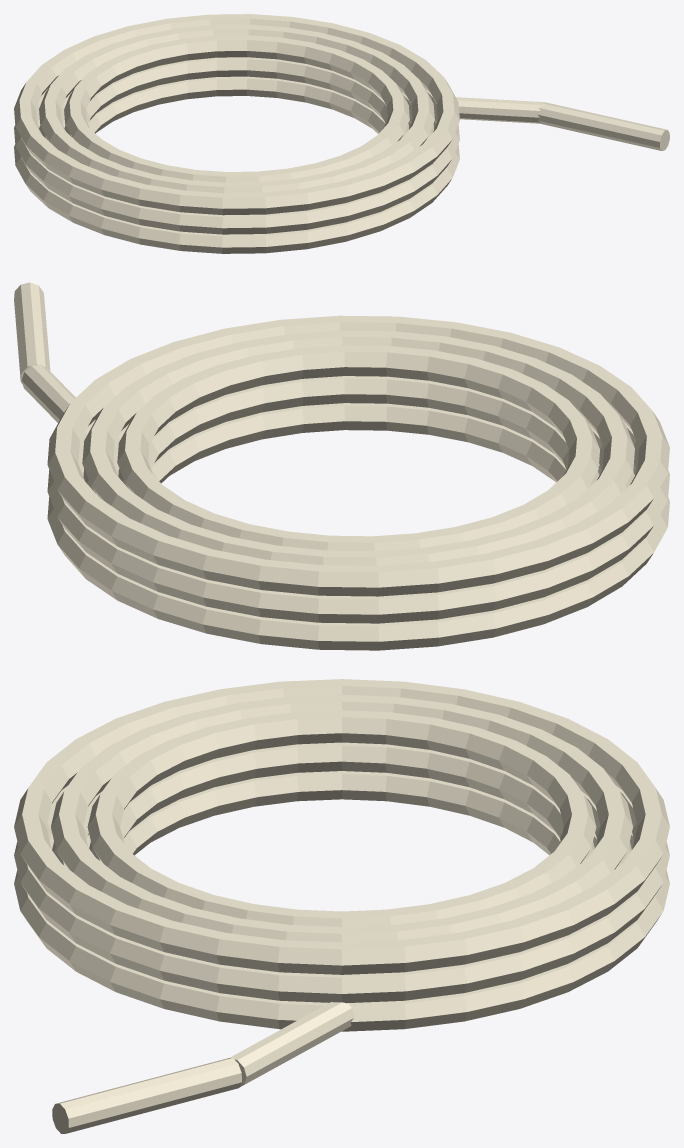
The model's file is harbor-and-tackle-mooring-rope-df9da9d7__19564.glb.
The picture shows the model from 3 angles, top to bottom: view 1: azimuth 30°, elevation 25°; view 2: azimuth 150°, elevation 25°; view 3: azimuth 270°, elevation 25°; orthographic projection. The views are drawn at different scales.
Parts seen in each view (by area): view 1: ivory; view 2: ivory; view 3: ivory.
Part boxes in pixels (x1,y1,x2,y2): ivory: (14, 14, 669, 253); ivory: (14, 282, 669, 650); ivory: (14, 679, 669, 1133).
Bounding box in the file's own units: 0.8353 × 0.0839 × 0.606.
